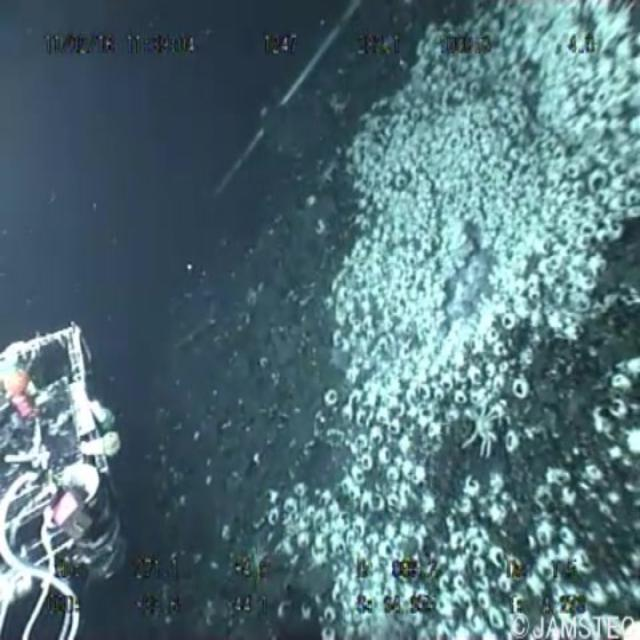Metal: (147, 0, 391, 268)
